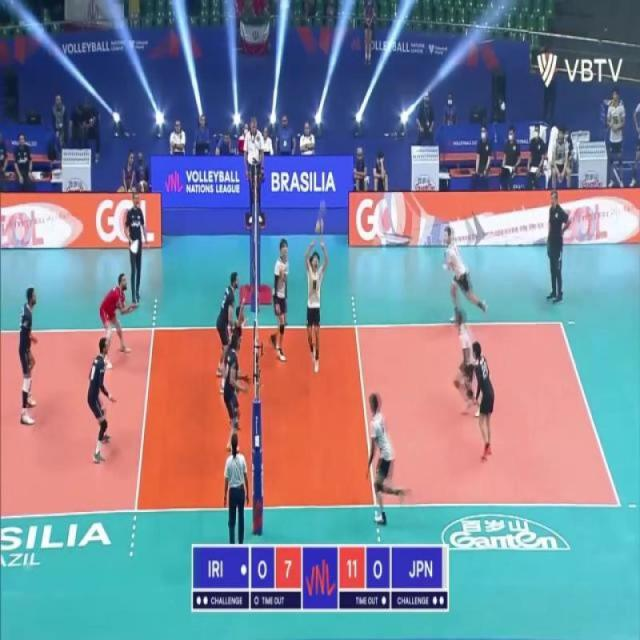volleyball: (314, 217, 325, 237), (606, 98, 614, 106)
